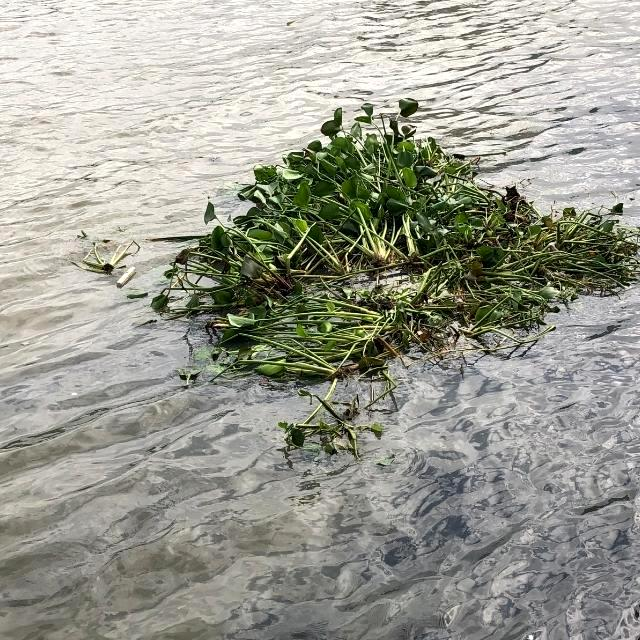water-hyacinth: (155, 91, 639, 457), (68, 223, 138, 272)
